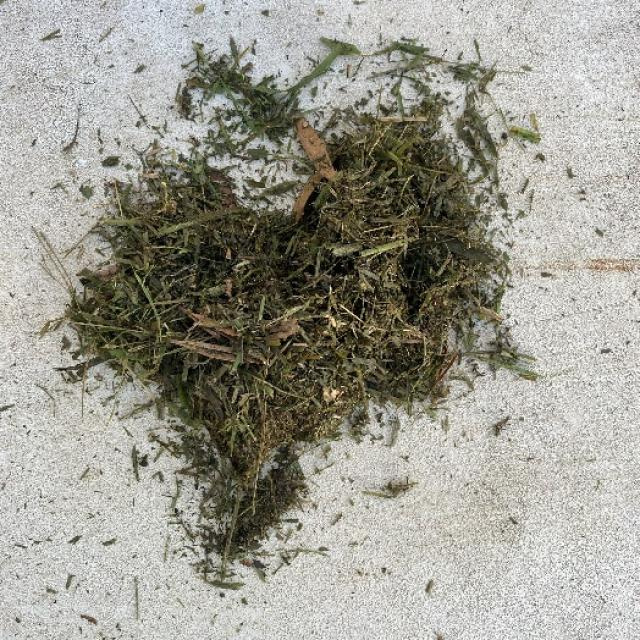organik: (75, 63, 518, 545)
